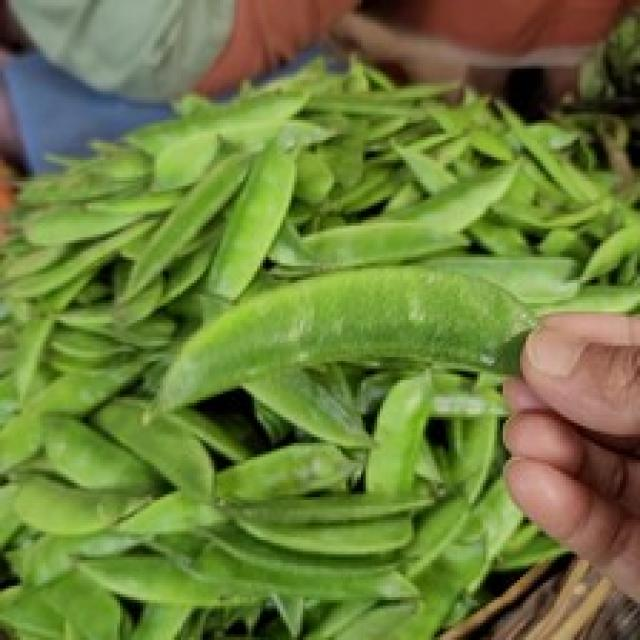Bean: (0, 46, 637, 637), (148, 275, 537, 405)
